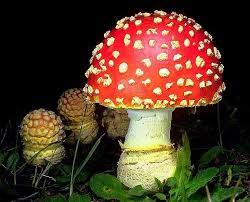Amanita muscaria: (79, 8, 233, 151)
